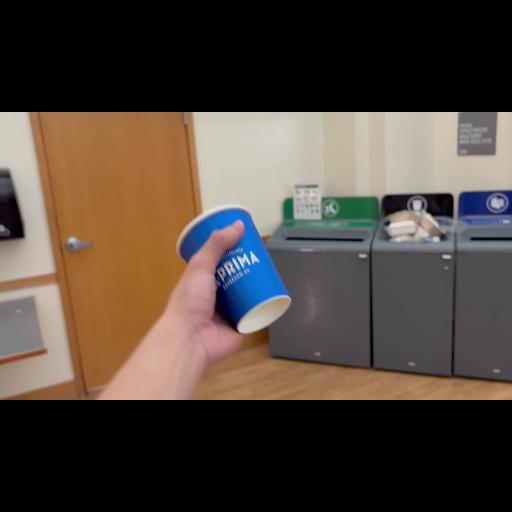lp_paper_cup: (168, 201, 306, 337)
